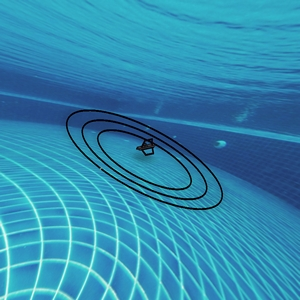circle: (59, 99, 227, 217)
